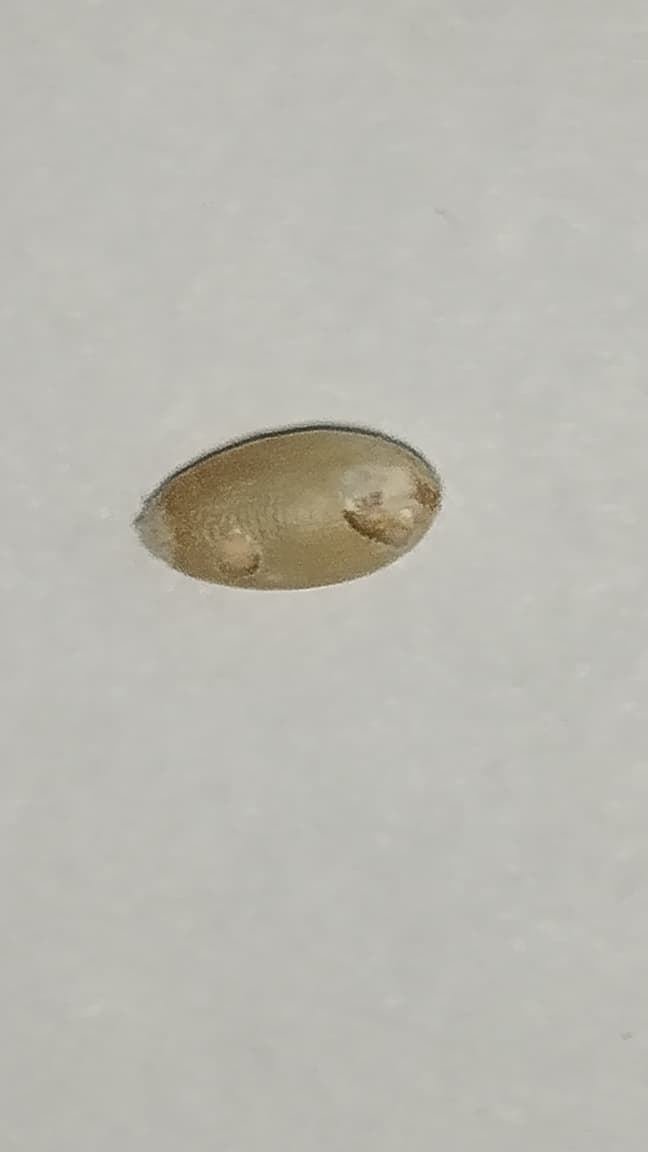damage: (133, 430, 445, 590)
insectdamage: (331, 450, 444, 554), (202, 527, 280, 586)
